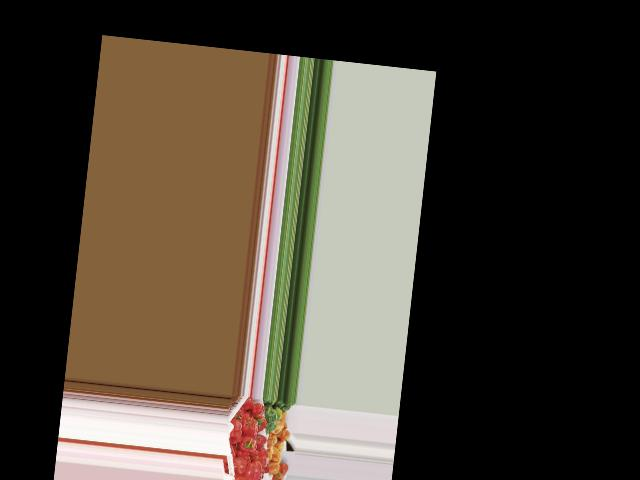bell_pepper: (227, 418, 243, 445)
